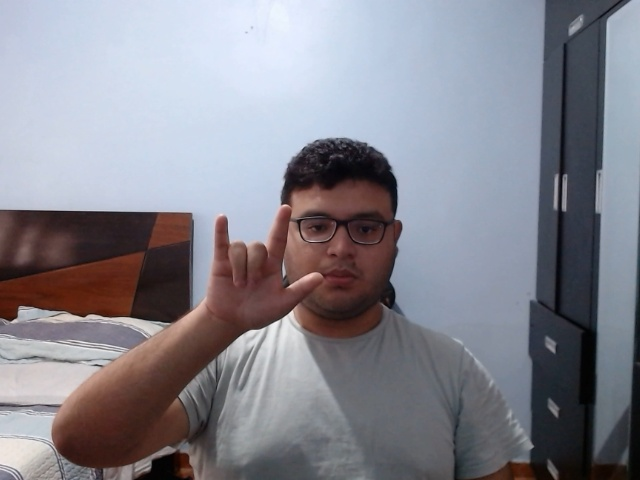I love you: (202, 202, 325, 340)
